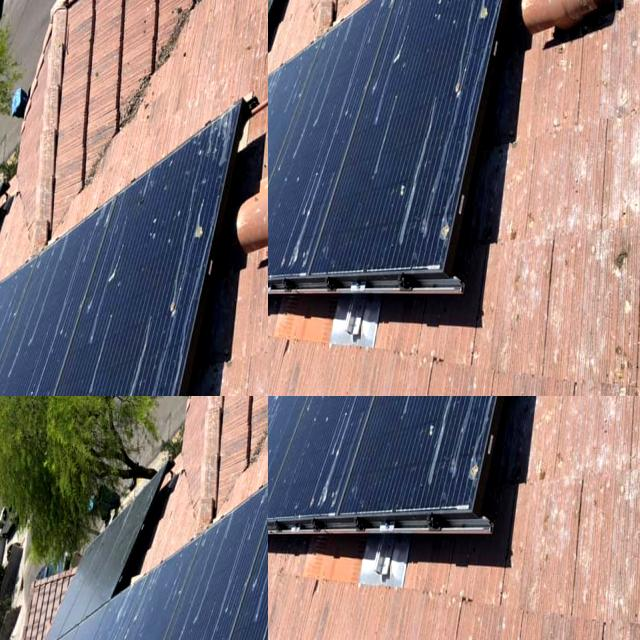bird: (268, 76, 487, 205), (504, 81, 623, 194), (268, 75, 352, 220), (294, 462, 354, 516), (388, 396, 443, 446), (268, 460, 302, 521), (268, 396, 307, 436), (413, 414, 446, 454), (465, 450, 488, 502), (472, 396, 507, 427), (492, 396, 522, 420)
crack: (56, 144, 268, 396), (0, 396, 188, 640), (0, 271, 171, 396), (98, 280, 268, 396), (0, 465, 122, 621)
